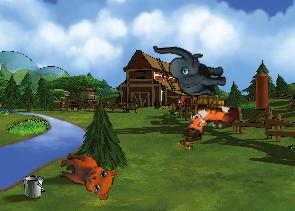bear: (54, 150, 119, 202)
elephant: (153, 39, 227, 100)
fox: (184, 100, 239, 141)
